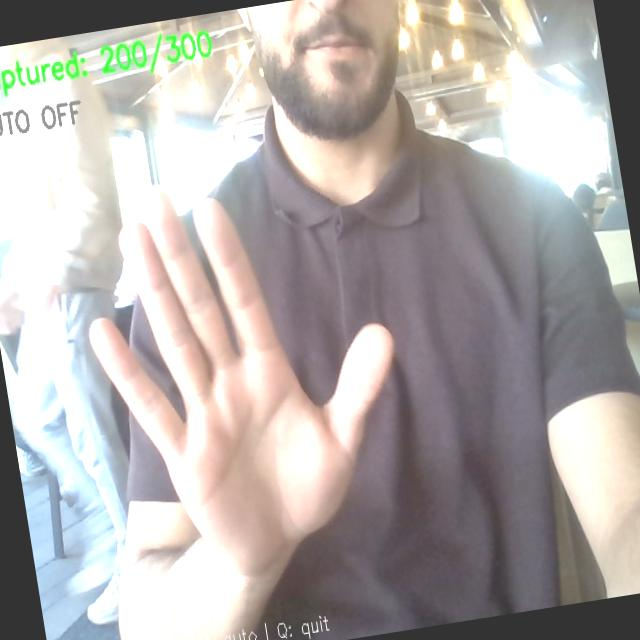Hand: (91, 190, 393, 576)
